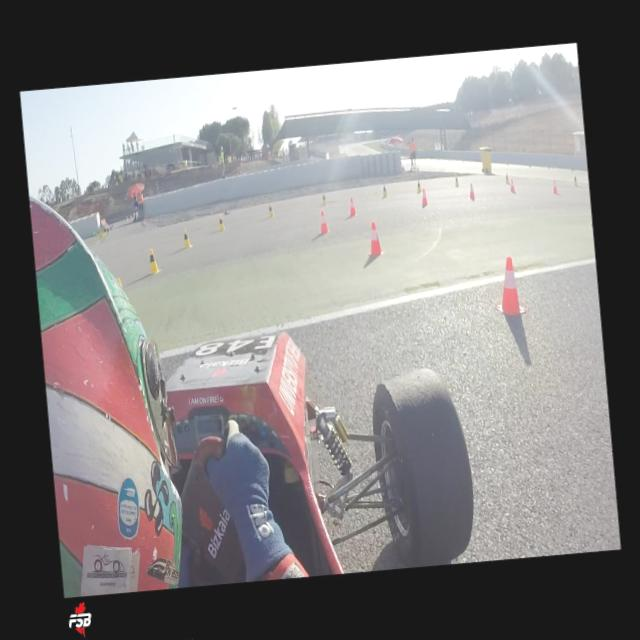orange_cone: (490, 254, 526, 316), (365, 220, 383, 256), (316, 208, 330, 234), (346, 196, 356, 217), (419, 187, 428, 206), (468, 182, 476, 200), (508, 178, 515, 192), (552, 179, 558, 194)
yellow_cone: (147, 246, 161, 274), (182, 228, 193, 248), (320, 190, 328, 206), (217, 214, 224, 232), (380, 183, 388, 198), (414, 179, 422, 193), (267, 202, 274, 218), (572, 174, 578, 186), (454, 173, 459, 187), (504, 172, 509, 184)
